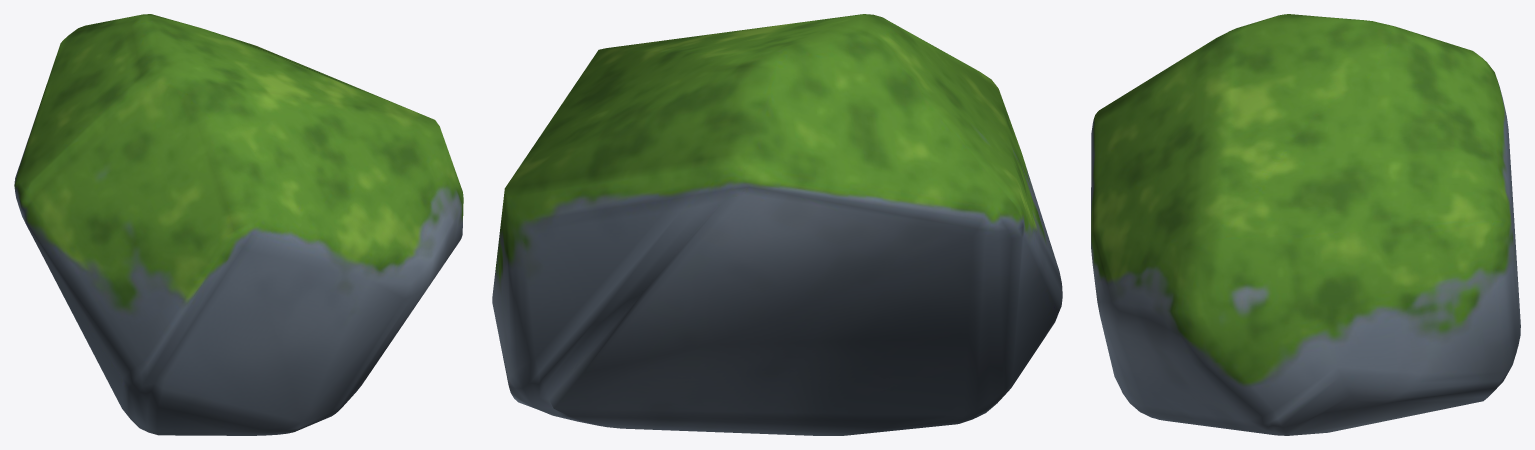
The model's file is boulder_moss.glb.
3 renders of one model, left to right at view 1: azimuth 30°, elevation 25°; view 2: azimuth 150°, elevation 25°; view 3: azimuth 270°, elevation 25°, orthographic. The views are drawn at different scales.
Visible parts, largest first — view 1: boulder_moss; view 2: boulder_moss; view 3: boulder_moss.
Part boxes in pixels (box(x1,y1,x2,y2)): boulder_moss: box(14, 14, 463, 435); boulder_moss: box(492, 14, 1062, 435); boulder_moss: box(1091, 14, 1520, 435).
Size of the model in its own units: 1.8 by 1.45 by 1.57.
Materials: 1 (1 with a texture image).
